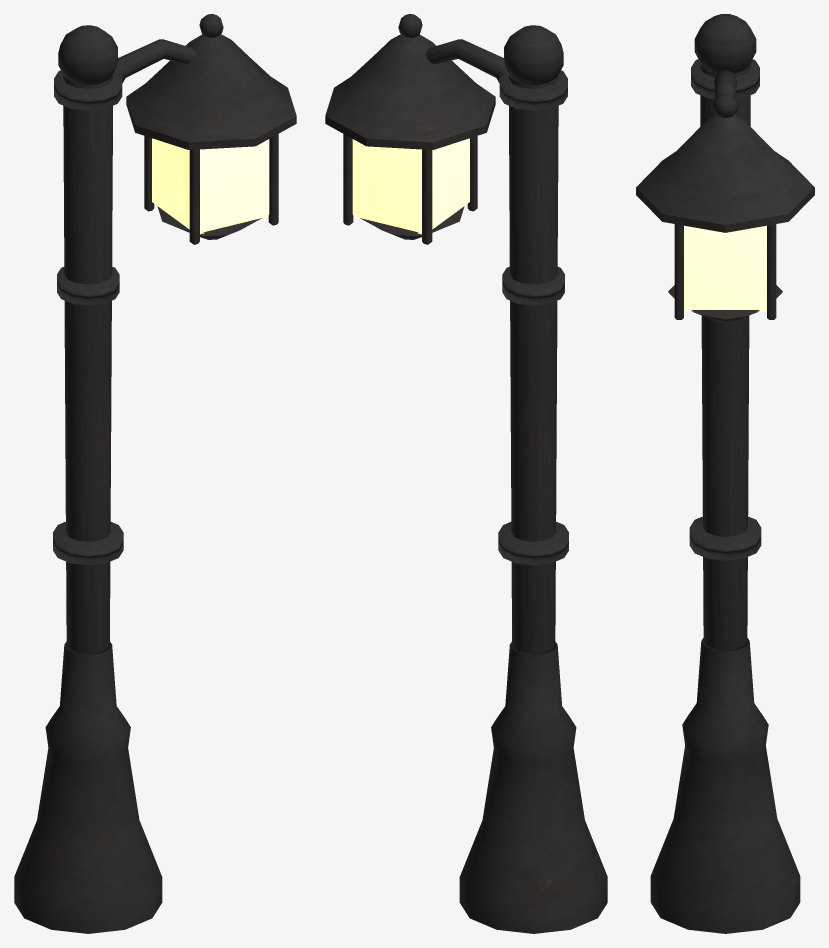
The model's file is lamp_post.glb.
3 renders of one model, left to right at view 1: azimuth 30°, elevation 25°; view 2: azimuth 150°, elevation 25°; view 3: azimuth 270°, elevation 25°, orthographic.
Parts seen in each view (by area): view 1: model; view 2: model; view 3: model.
Part boxes in pixels (x1=…): model: x1=14, y1=14, x2=296, y2=933; model: x1=325, y1=14, x2=607, y2=933; model: x1=636, y1=14, x2=814, y2=933.
Bounding box in the file's own units: 0.535 × 1.69 × 0.31.
2 materials, 1 textured.
